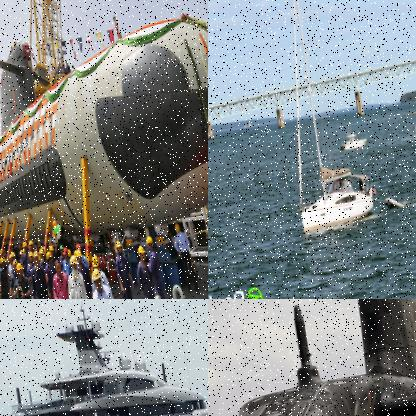Patrol Boat: (334, 118, 368, 151)
Sails Boat: (255, 0, 382, 235)
Submarine: (0, 8, 207, 257), (208, 299, 415, 415)
Yacht: (0, 299, 207, 415)
